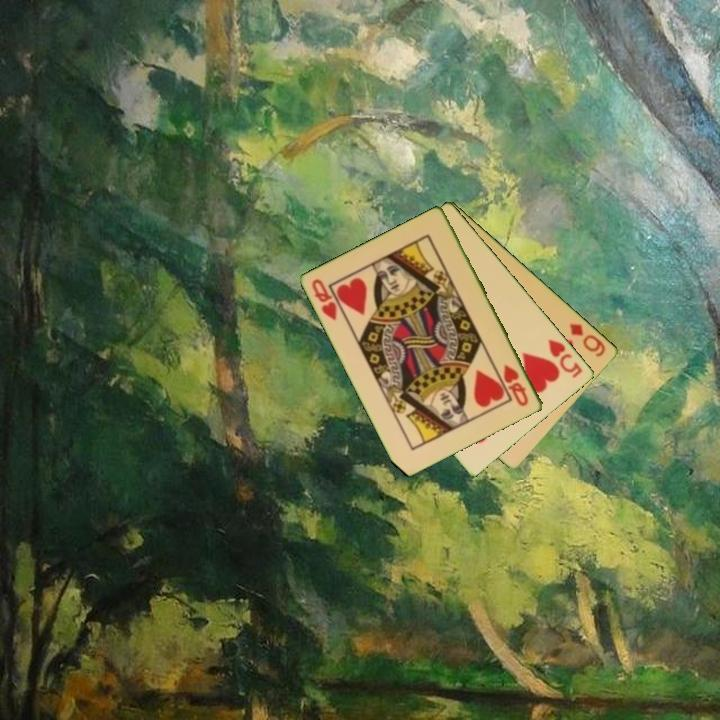5h: (545, 335, 586, 381)
6d: (566, 320, 609, 360)
Qh: (500, 360, 532, 409), (308, 275, 340, 323)
